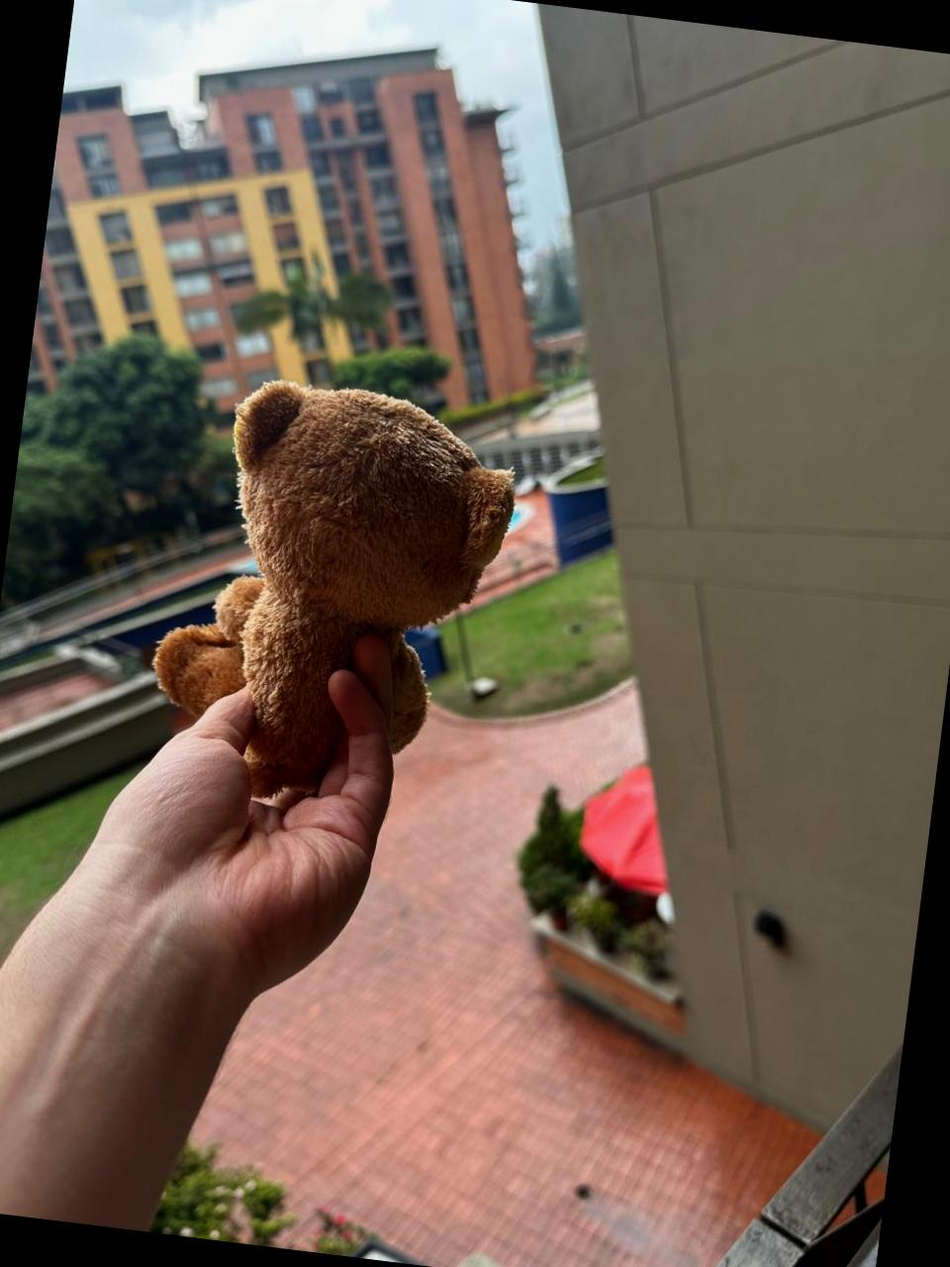peluche_sebastian: (148, 357, 526, 801)
